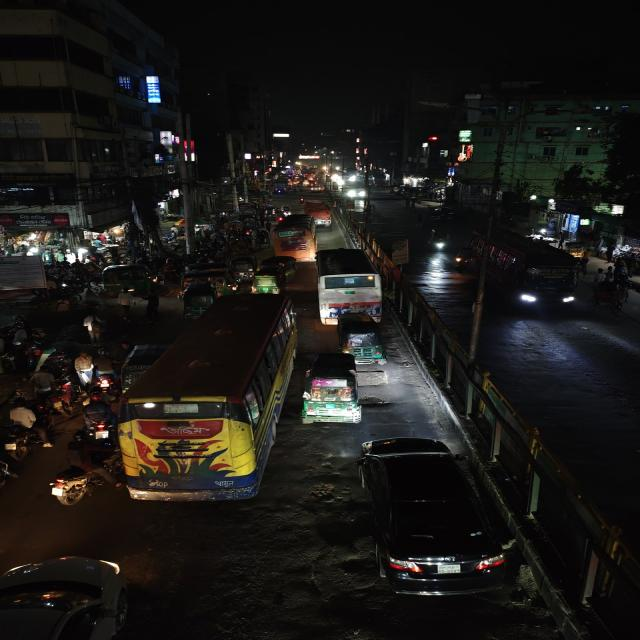bus: (116, 292, 298, 509), (472, 230, 585, 314), (313, 246, 386, 326), (270, 214, 320, 258)
car: (354, 428, 511, 598), (0, 550, 143, 639)
cng: (299, 351, 364, 427), (96, 263, 162, 301), (337, 317, 389, 365), (252, 256, 298, 294), (178, 282, 216, 318), (206, 270, 238, 294), (229, 254, 256, 278)
motorcycle: (0, 400, 45, 458), (44, 460, 98, 508), (79, 393, 115, 443), (0, 453, 16, 507), (429, 228, 449, 255), (453, 244, 473, 271)
pedestrian: (4, 400, 44, 454), (30, 366, 57, 398), (72, 352, 99, 384), (78, 311, 104, 341)
pickup_van: (302, 196, 336, 228)
rickshaw: (592, 280, 628, 312)
truck: (312, 246, 387, 325)
